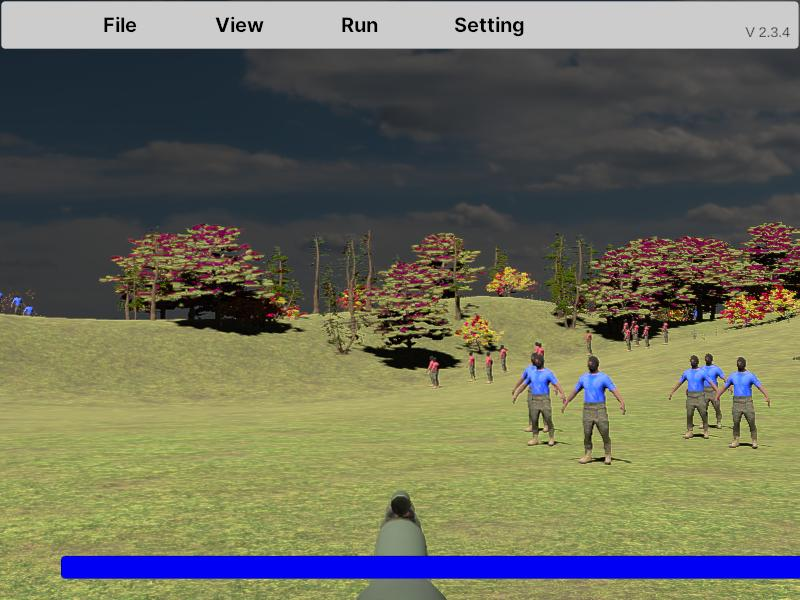Human: (561, 356, 625, 465), (715, 357, 770, 449), (512, 354, 566, 446), (669, 356, 719, 439), (693, 354, 730, 428)
